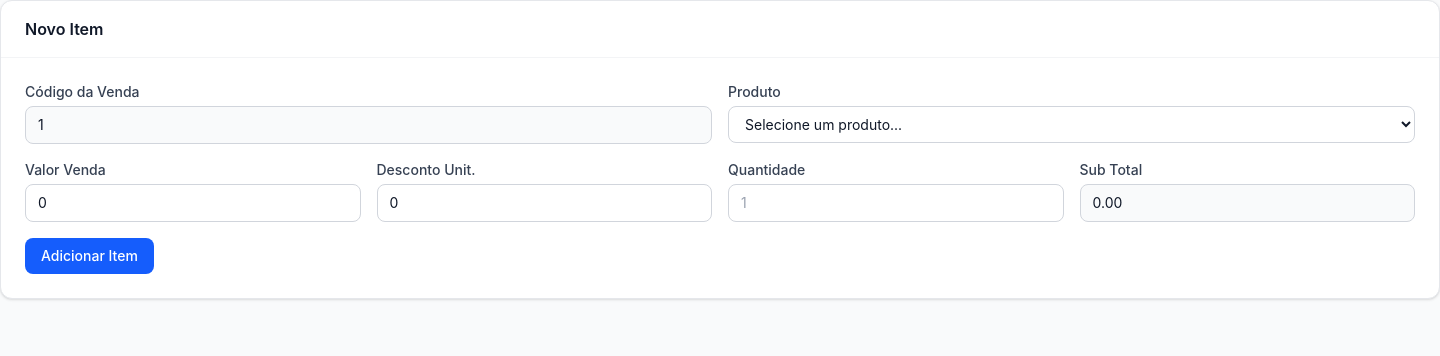
VendaItemForm › should require quantidade and produto
Click the button "Adicionar Item": (89,256) x1=25 y1=238 x2=154 y2=274
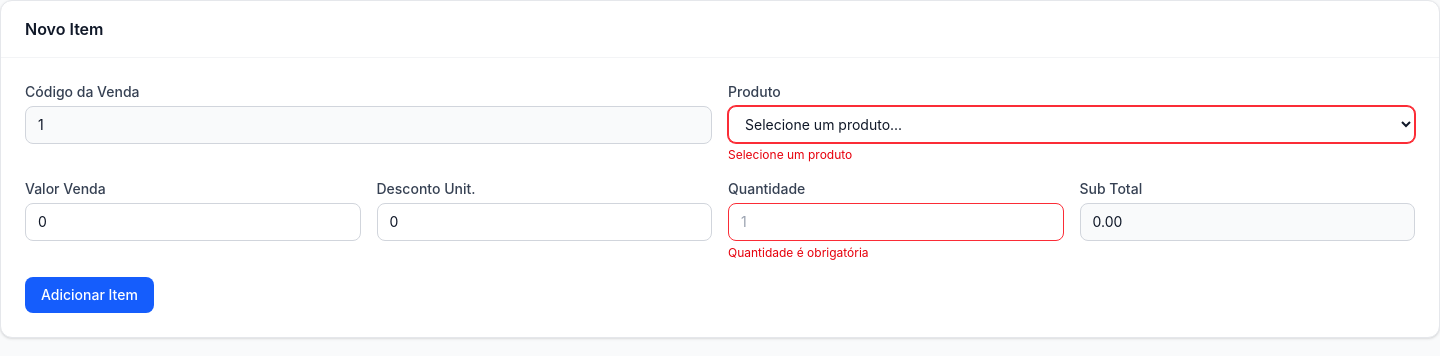
Now the text "Selecione um produto" is shown, box x1=728 y1=147 x2=852 y2=162
Now the text "Quantidade é obrigatória" is shown, box x1=728 y1=245 x2=869 y2=260
